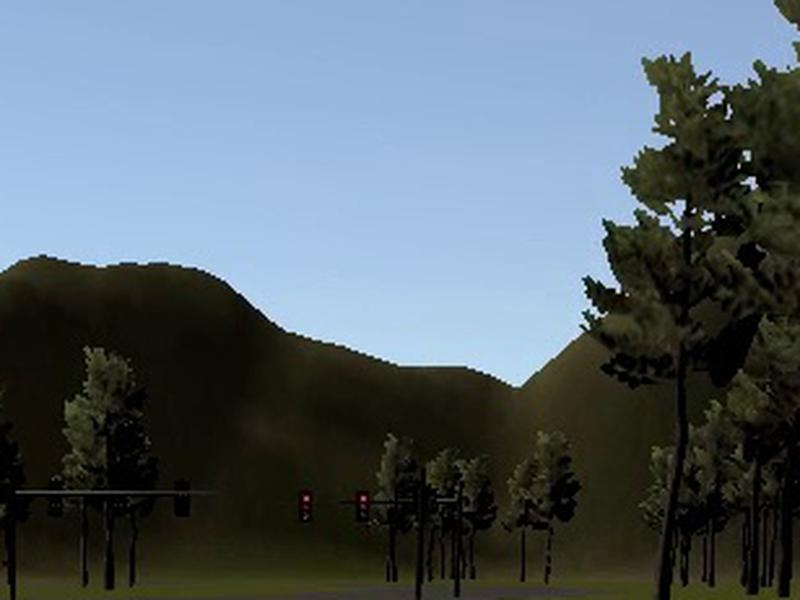Red: (353, 490, 370, 522), (298, 491, 314, 525)
